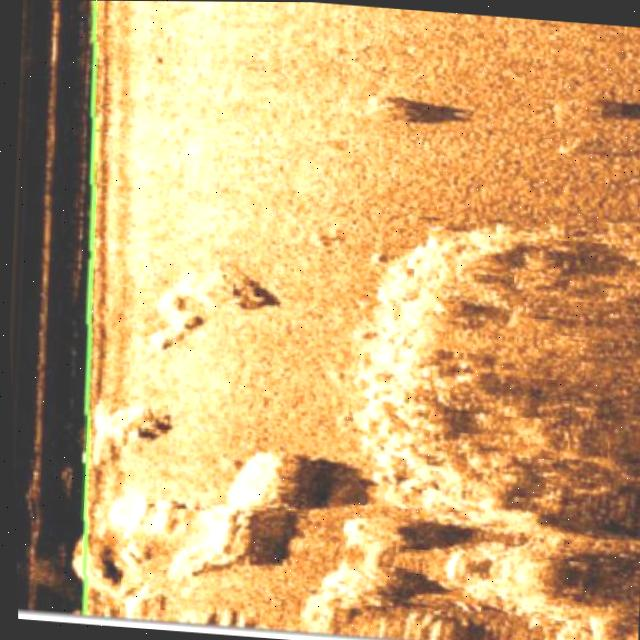bedrock group: (74, 183, 640, 640)
